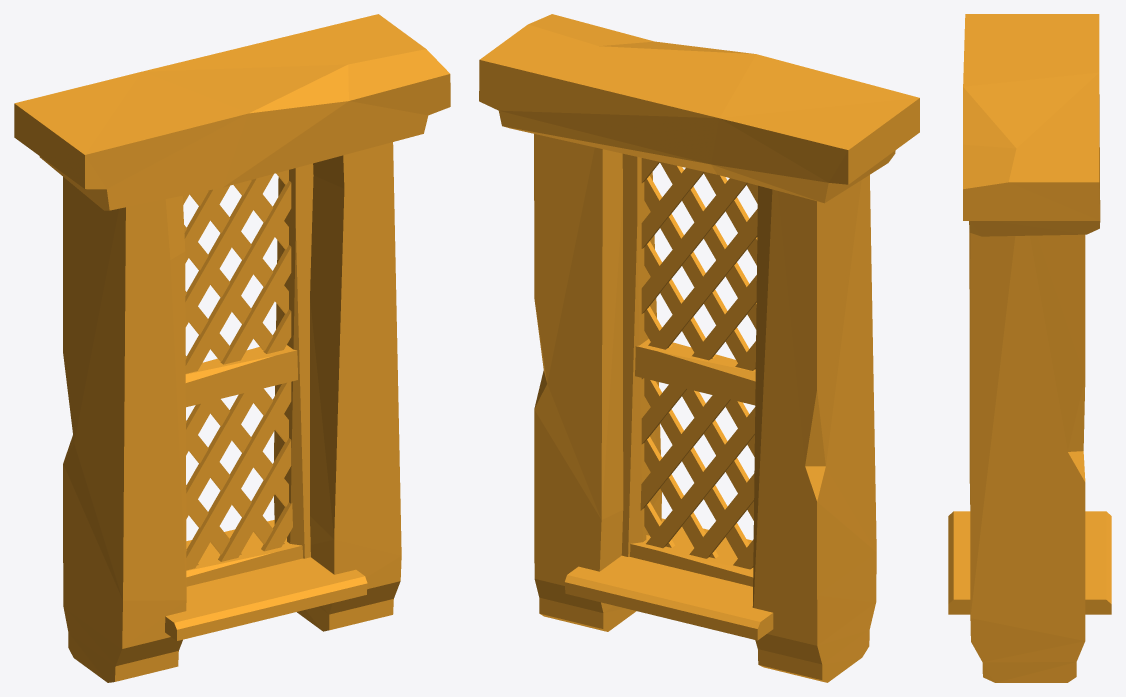
The model's file is SM_Window_Wood_Small_B_Fantasy.fbx.
3 views of the same model, side by side, from view 1: azimuth 30°, elevation 25°; view 2: azimuth 150°, elevation 25°; view 3: azimuth 270°, elevation 25° (orthographic). The views are drawn at different scales.
Visible parts, largest first — view 1: SM_Window_Wood_Small_B_Fantasy; view 2: SM_Window_Wood_Small_B_Fantasy; view 3: SM_Window_Wood_Small_B_Fantasy.
Part boxes in pixels (<box>): SM_Window_Wood_Small_B_Fantasy: <box>14,14,450,682</box>; SM_Window_Wood_Small_B_Fantasy: <box>479,14,919,682</box>; SM_Window_Wood_Small_B_Fantasy: <box>948,14,1111,682</box>.
Size of the model in its own units: 1.44 by 2.09 by 0.5888.
